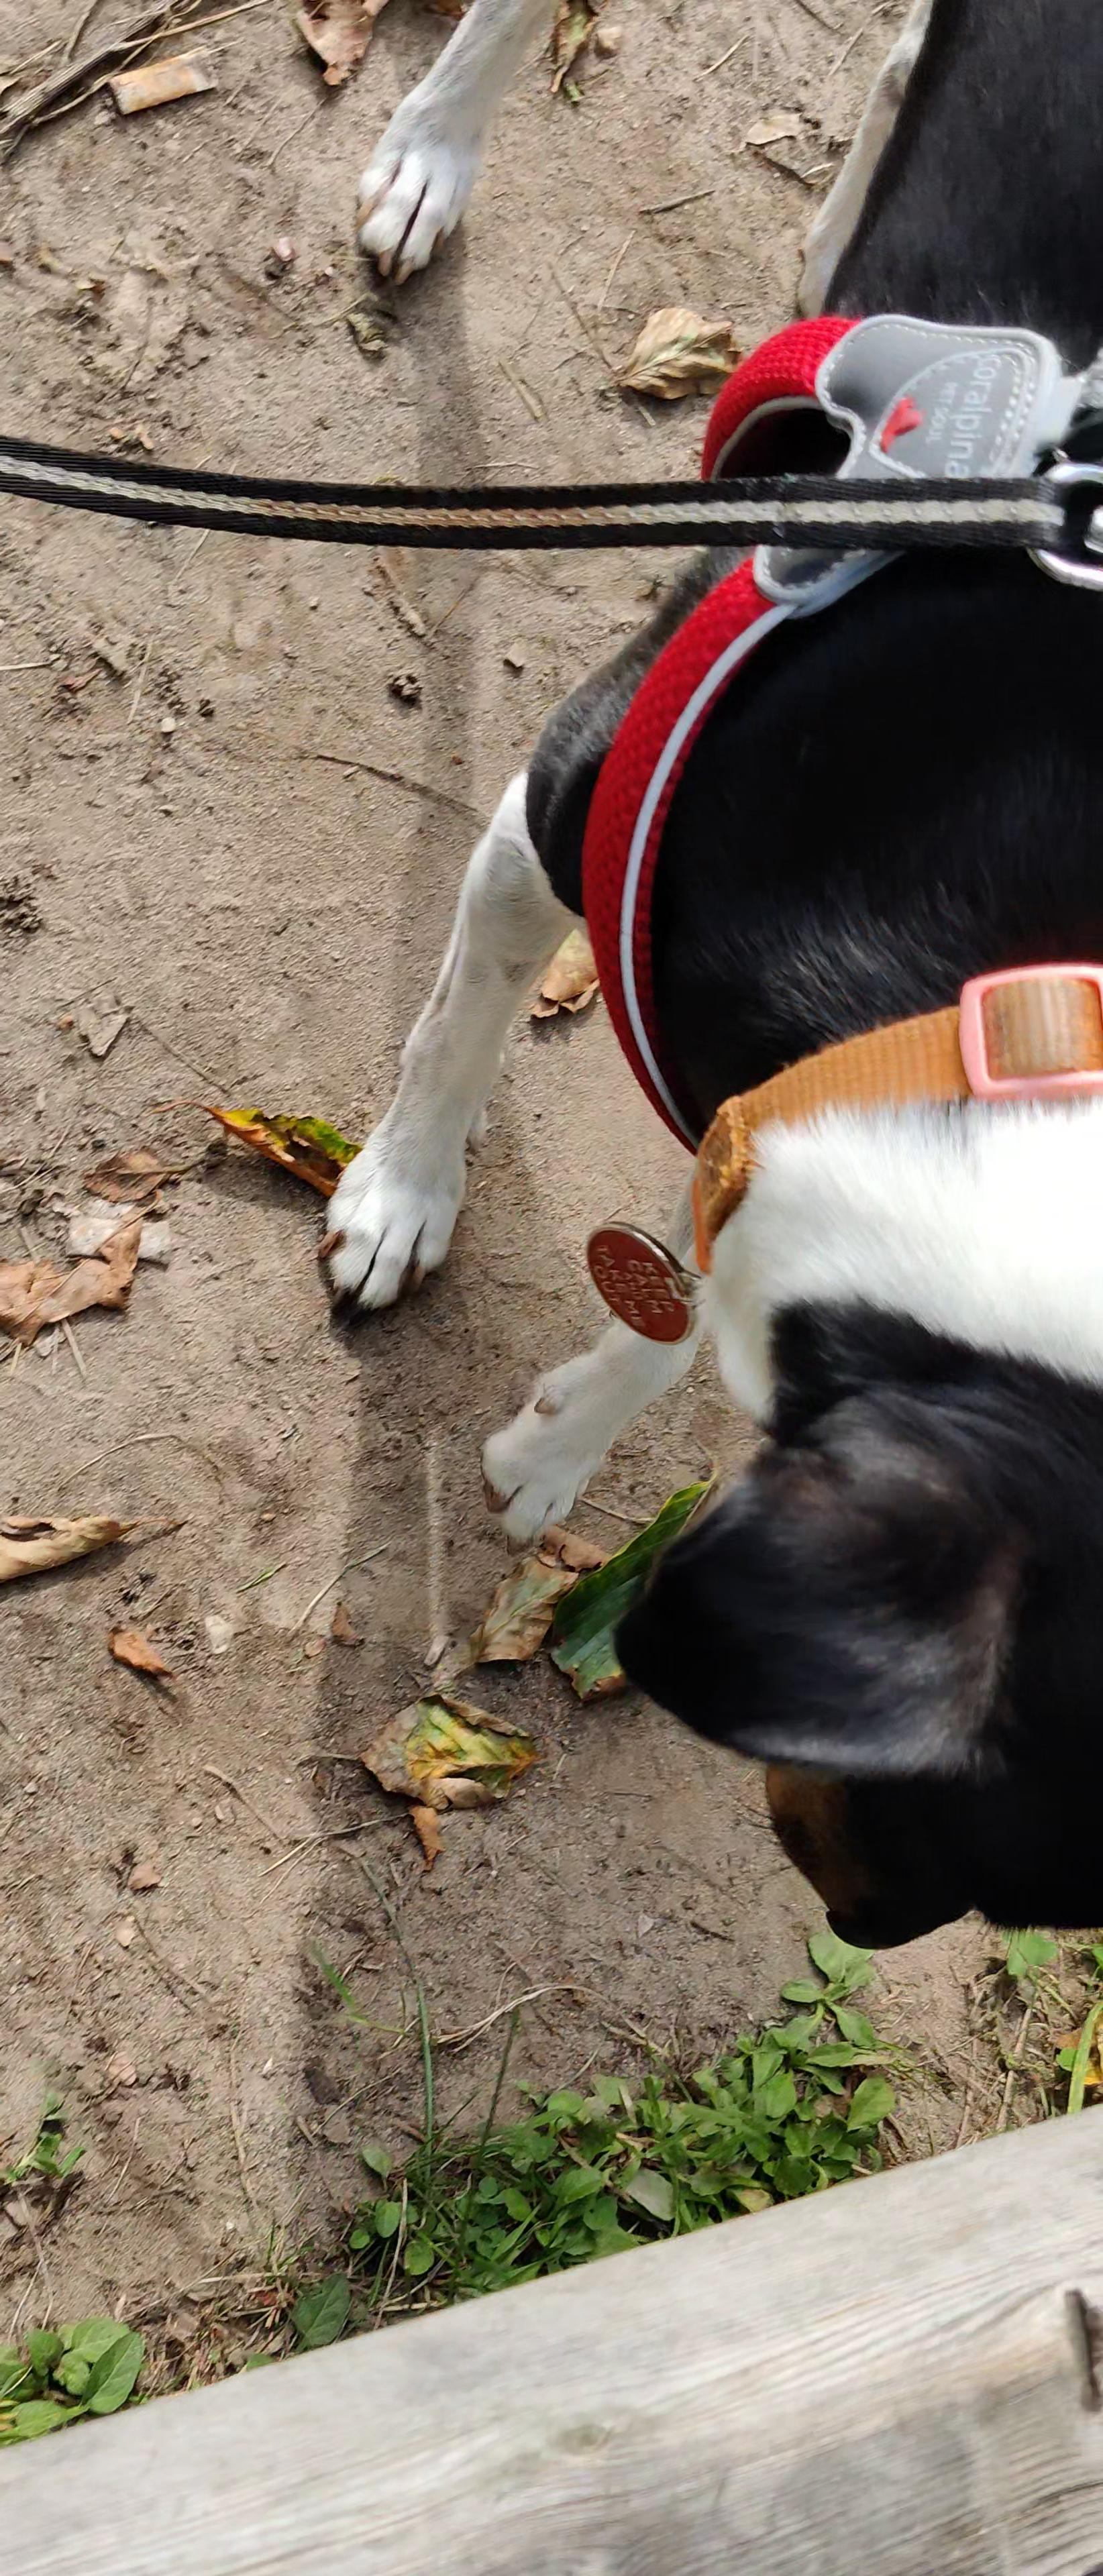Dog: (243, 0, 1103, 1978)
